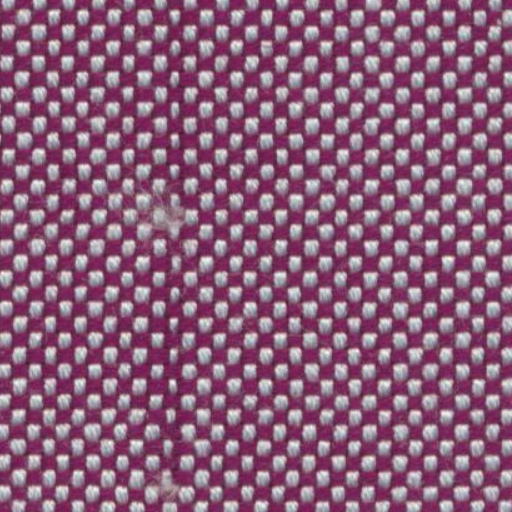TuoSha: (129, 11, 220, 500)
